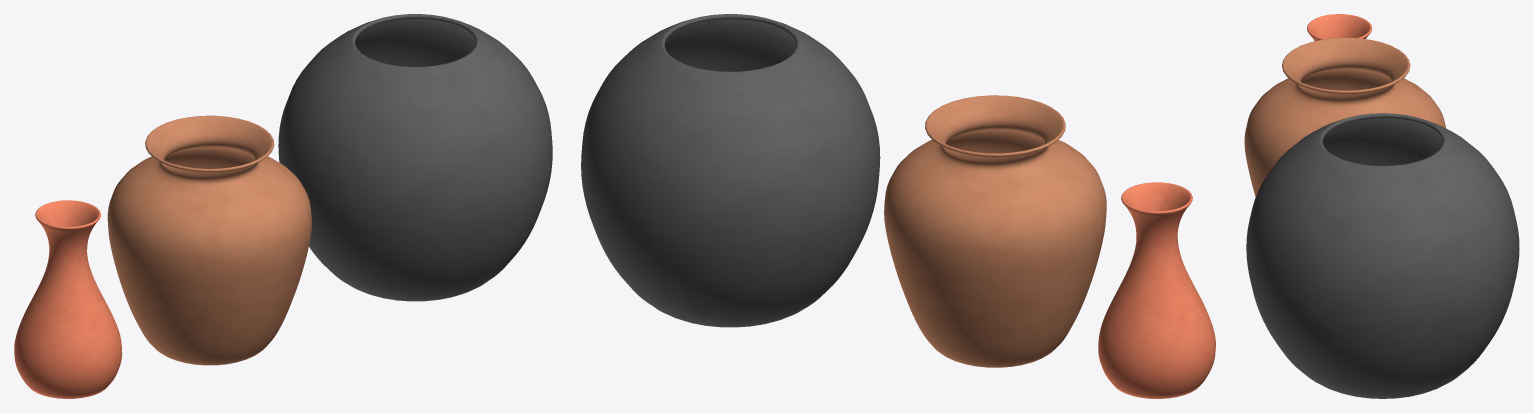
The model's file is Vases3.fbx.
3 renders of one model, left to right at view 1: azimuth 30°, elevation 25°; view 2: azimuth 150°, elevation 25°; view 3: azimuth 270°, elevation 25°, orthographic. The views are drawn at different scales.
Visible parts, largest first — view 1: Vase3, Vase2, Vase1; view 2: Vase3, Vase2, Vase1; view 3: Vase3, Vase2, Vase1.
Boxes of the visible parts, x1,y1,x2,y2 form: Vase3: (278,14,552,301); Vase2: (107,115,311,365); Vase1: (14,200,122,398); Vase3: (581,14,880,327); Vase2: (884,95,1106,367); Vase1: (1098,182,1215,398); Vase3: (1246,113,1519,398); Vase2: (1244,37,1446,196); Vase1: (1307,14,1372,41).
Bounding box in the file's own units: 167 × 69.97 × 74.81.
